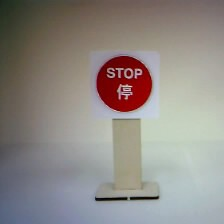stop: (86, 47, 161, 121)
